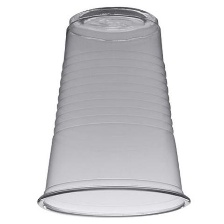glass: (31, 0, 195, 221)
